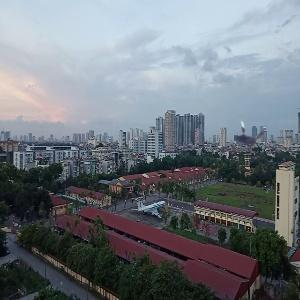drone: (219, 105, 276, 162)
